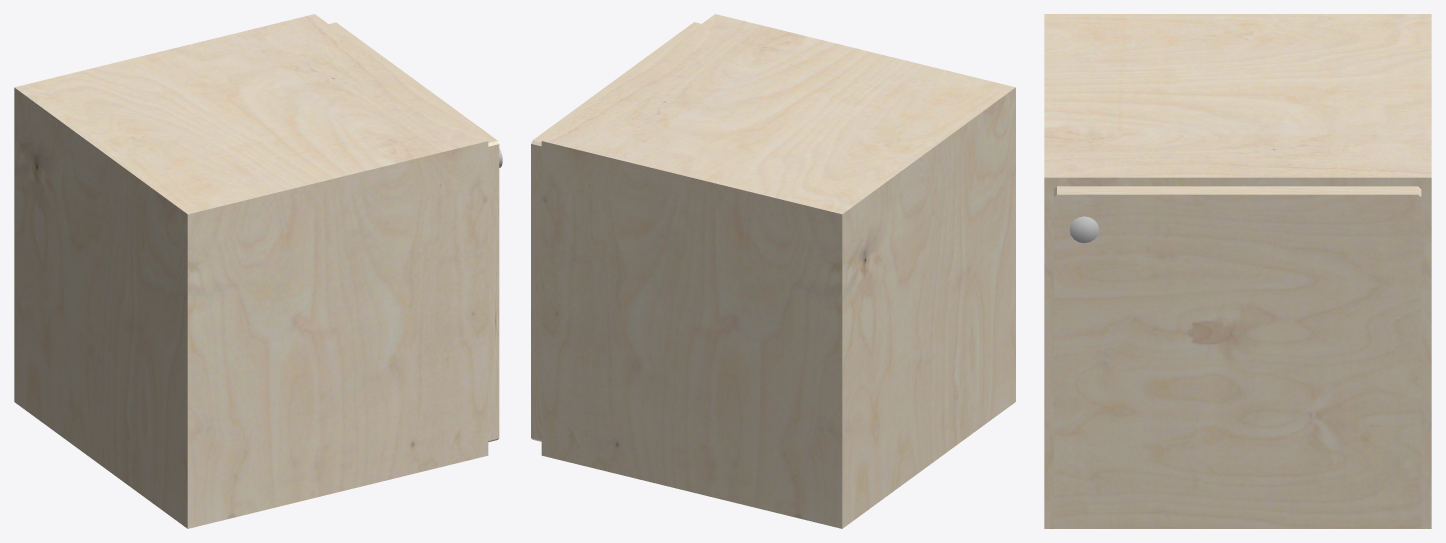
File: Base shelf Swing Drawer.fbx
3 renders of one model, left to right at view 1: azimuth 30°, elevation 25°; view 2: azimuth 150°, elevation 25°; view 3: azimuth 270°, elevation 25°, orthographic. The views are drawn at different scales.
Visible parts, largest first — view 1: Shelf TL.003, Shelf L.003, Shelf BL.003, Shelt T.001, Shelf TR.003, Shelf B.003, Shelf Center, Shelf R.001, Shelf BR.003; view 2: Shelf TR.003, Shelf R.001, Shelf BR.003, Shelt T.001, Shelf TL.003, Shelf B.003, Shelf Center, Shelf BL.003, Shelf L.003; view 3: Shelt T.001, Shelf TL.003, Shelf TR.003, Shelf Center, Shelf R.001, Shelf L.003, Shelf BR.003, Shelf BL.003, Shelf B.003.
Boxes of the visible parts, left/top/right/bottom form: Shelf TL.003: left=130, top=98, right=502, bottom=318; Shelf L.003: left=130, top=239, right=499, bottom=423; Shelf BL.003: left=130, top=344, right=499, bottom=528; Shelt T.001: left=72, top=56, right=445, bottom=276; Shelf TR.003: left=14, top=14, right=387, bottom=233; Shelf B.003: left=72, top=339, right=129, bottom=486; Shelf Center: left=72, top=235, right=129, bottom=381; Shelf R.001: left=14, top=192, right=71, bottom=338; Shelf BR.003: left=14, top=297, right=71, bottom=443; Shelf TR.003: left=531, top=98, right=900, bottom=318; Shelf R.001: left=531, top=238, right=900, bottom=423; Shelf BR.003: left=531, top=343, right=900, bottom=528; Shelt T.001: left=584, top=56, right=957, bottom=276; Shelf TL.003: left=642, top=14, right=1015, bottom=234; Shelf B.003: left=900, top=339, right=957, bottom=486; Shelf Center: left=900, top=235, right=957, bottom=381; Shelf BL.003: left=958, top=297, right=1015, bottom=443; Shelf L.003: left=958, top=192, right=1015, bottom=338; Shelt T.001: left=1173, top=14, right=1302, bottom=303; Shelf TL.003: left=1044, top=14, right=1173, bottom=303; Shelf TR.003: left=1302, top=14, right=1431, bottom=303; Shelf Center: left=1173, top=303, right=1302, bottom=420; Shelf R.001: left=1302, top=295, right=1431, bottom=420; Shelf L.003: left=1044, top=295, right=1173, bottom=420; Shelf BR.003: left=1302, top=412, right=1431, bottom=528; Shelf BL.003: left=1044, top=412, right=1173, bottom=528; Shelf B.003: left=1173, top=420, right=1302, bottom=528.
Bounding box in the file's own units: 219 × 200 × 200.
